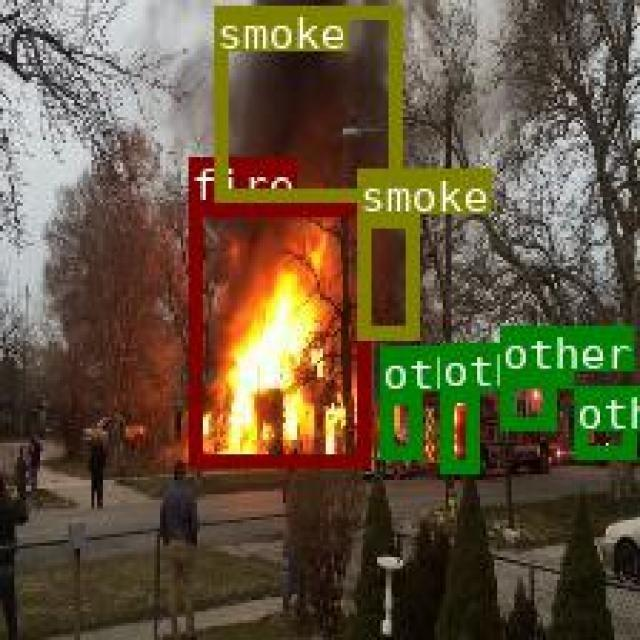fire: (188, 201, 367, 465)
smoke: (212, 5, 398, 198), (356, 213, 417, 336)
